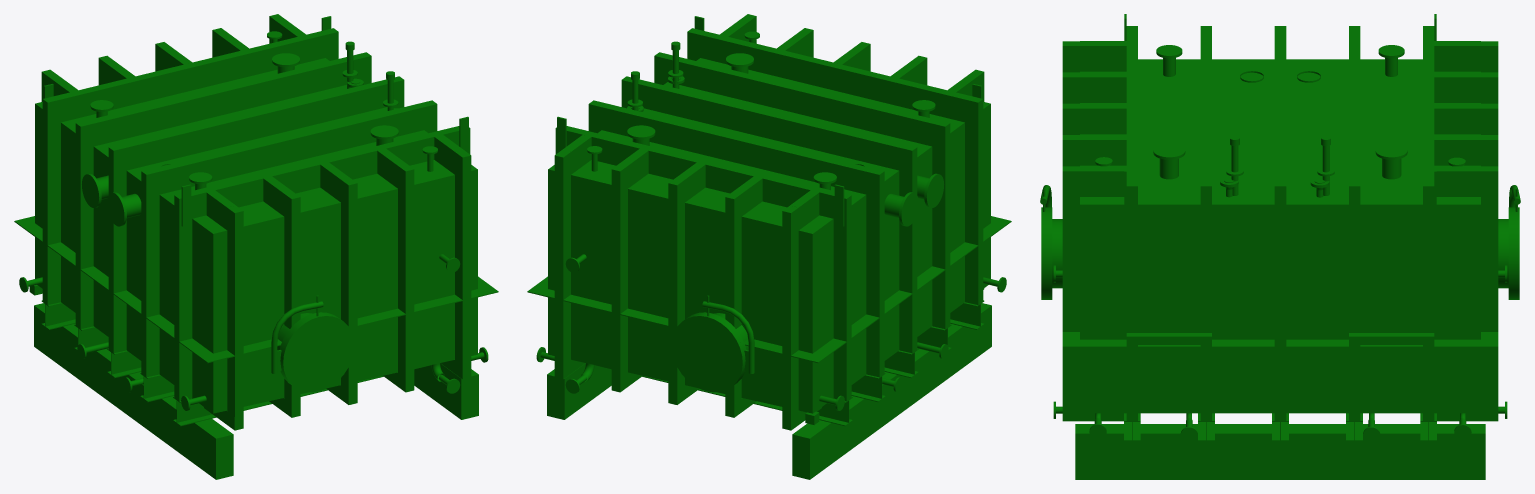
Rendered from Image-1711348148684-2280979755536_53-TB50.fbx.
The picture shows the model from 3 angles, left to right: view 1: azimuth 30°, elevation 25°; view 2: azimuth 150°, elevation 25°; view 3: azimuth 270°, elevation 25°; orthographic projection. The views are drawn at different scales.
Parts seen in each view (by area): view 1: PYRAMID 2 of SUBEQUIPMENT /53-TB50/PRIM, /53-TB50/BACK, BOX 1 of SUBEQUIPMENT /53-TB50/SUPT, BOX 1 of SUBEQUIPMENT /53-TB50/TOP, BOX 26 of SUBEQUIPMENT /53-TB50/STIFFENERS, BOX 25 of SUBEQUIPMENT /53-TB50/STIFFENERS, BOX 24 of SUBEQUIPMENT /53-TB50/STIFFENERS, BOX 27 of SUBEQUIPMENT /53-TB50/STIFFENERS, BOX 28 of SUBEQUIPMENT /53-TB50/STIFFENERS, CYLINDER 6 of SUBEQUIPMENT /53-TB50/NOZZ, BOX 14 of SUBEQUIPMENT /53-TB50/STIFFENERS, BOX 17 of SUBEQUIPMENT /53-TB50/STIFFENERS (+20 smaller); view 2: PYRAMID 1 of SUBEQUIPMENT /53-TB50/PRIM, /53-TB50/BACK, BOX 1 of SUBEQUIPMENT /53-TB50/SUPT, BOX 1 of SUBEQUIPMENT /53-TB50/TOP, BOX 26 of SUBEQUIPMENT /53-TB50/STIFFENERS, BOX 27 of SUBEQUIPMENT /53-TB50/STIFFENERS, BOX 25 of SUBEQUIPMENT /53-TB50/STIFFENERS, BOX 28 of SUBEQUIPMENT /53-TB50/STIFFENERS, BOX 24 of SUBEQUIPMENT /53-TB50/STIFFENERS, CYLINDER 5 of SUBEQUIPMENT /53-TB50/NOZZ, BOX 18 of SUBEQUIPMENT /53-TB50/STIFFENERS, BOX 15 of SUBEQUIPMENT /53-TB50/STIFFENERS (+20 smaller); view 3: /53-TB50/FRONT, BOX 1 of SUBEQUIPMENT /53-TB50/TOP, BOX 2 of SUBEQUIPMENT /53-TB50/SUPT, BOX 34 of SUBEQUIPMENT /53-TB50/STIFFENERS, BOX 37 of SUBEQUIPMENT /53-TB50/STIFFENERS, BOX 21 of SUBEQUIPMENT /53-TB50/STIFFENERS, BOX 3 of SUBEQUIPMENT /53-TB50/STIFFENERS, BOX 20 of SUBEQUIPMENT /53-TB50/STIFFENERS, BOX 22 of SUBEQUIPMENT /53-TB50/STIFFENERS, BOX 19 of SUBEQUIPMENT /53-TB50/STIFFENERS, BOX 23 of SUBEQUIPMENT /53-TB50/STIFFENERS, BOX 26 of SUBEQUIPMENT /53-TB50/STIFFENERS (+34 smaller).
Part boxes in pixels (box(x1,y1,x2,y2)): PYRAMID 2 of SUBEQUIPMENT /53-TB50/PRIM: box(214, 169, 476, 412); /53-TB50/BACK: box(35, 105, 213, 413); BOX 1 of SUBEQUIPMENT /53-TB50/SUPT: box(34, 303, 233, 479); BOX 1 of SUBEQUIPMENT /53-TB50/TOP: box(35, 58, 477, 234); BOX 26 of SUBEQUIPMENT /53-TB50/STIFFENERS: box(122, 79, 387, 170); BOX 25 of SUBEQUIPMENT /53-TB50/STIFFENERS: box(89, 55, 358, 146); BOX 24 of SUBEQUIPMENT /53-TB50/STIFFENERS: box(56, 31, 325, 122); BOX 27 of SUBEQUIPMENT /53-TB50/STIFFENERS: box(155, 103, 424, 194); BOX 28 of SUBEQUIPMENT /53-TB50/STIFFENERS: box(191, 127, 456, 218); CYLINDER 6 of SUBEQUIPMENT /53-TB50/NOZZ: box(280, 314, 354, 392); BOX 14 of SUBEQUIPMENT /53-TB50/STIFFENERS: box(42, 96, 60, 305); BOX 17 of SUBEQUIPMENT /53-TB50/STIFFENERS: box(141, 168, 159, 377); PYRAMID 1 of SUBEQUIPMENT /53-TB50/PRIM: box(548, 169, 813, 413); /53-TB50/BACK: box(812, 103, 990, 412); BOX 1 of SUBEQUIPMENT /53-TB50/SUPT: box(792, 303, 991, 479); BOX 1 of SUBEQUIPMENT /53-TB50/TOP: box(548, 58, 990, 234); BOX 26 of SUBEQUIPMENT /53-TB50/STIFFENERS: box(638, 79, 903, 170); BOX 27 of SUBEQUIPMENT /53-TB50/STIFFENERS: box(667, 55, 936, 146); BOX 25 of SUBEQUIPMENT /53-TB50/STIFFENERS: box(601, 103, 870, 194); BOX 28 of SUBEQUIPMENT /53-TB50/STIFFENERS: box(700, 31, 969, 122); BOX 24 of SUBEQUIPMENT /53-TB50/STIFFENERS: box(569, 127, 834, 218); CYLINDER 5 of SUBEQUIPMENT /53-TB50/NOZZ: box(671, 314, 745, 392); BOX 18 of SUBEQUIPMENT /53-TB50/STIFFENERS: box(965, 96, 983, 305); BOX 15 of SUBEQUIPMENT /53-TB50/STIFFENERS: box(866, 168, 884, 377); /53-TB50/FRONT: box(1080, 204, 1480, 413); BOX 1 of SUBEQUIPMENT /53-TB50/TOP: box(1080, 59, 1480, 205); BOX 2 of SUBEQUIPMENT /53-TB50/SUPT: box(1075, 424, 1485, 479); BOX 34 of SUBEQUIPMENT /53-TB50/STIFFENERS: box(1062, 166, 1079, 405); BOX 37 of SUBEQUIPMENT /53-TB50/STIFFENERS: box(1481, 166, 1498, 405); BOX 21 of SUBEQUIPMENT /53-TB50/STIFFENERS: box(1274, 179, 1286, 421); BOX 3 of SUBEQUIPMENT /53-TB50/STIFFENERS: box(1062, 332, 1498, 347); BOX 20 of SUBEQUIPMENT /53-TB50/STIFFENERS: box(1200, 179, 1211, 421); BOX 22 of SUBEQUIPMENT /53-TB50/STIFFENERS: box(1349, 179, 1360, 421); BOX 19 of SUBEQUIPMENT /53-TB50/STIFFENERS: box(1126, 179, 1137, 421); BOX 23 of SUBEQUIPMENT /53-TB50/STIFFENERS: box(1423, 179, 1434, 421); BOX 26 of SUBEQUIPMENT /53-TB50/STIFFENERS: box(1274, 33, 1286, 178).
Bounding box in the file's own units: 3.49 × 4.22 × 3.22.
